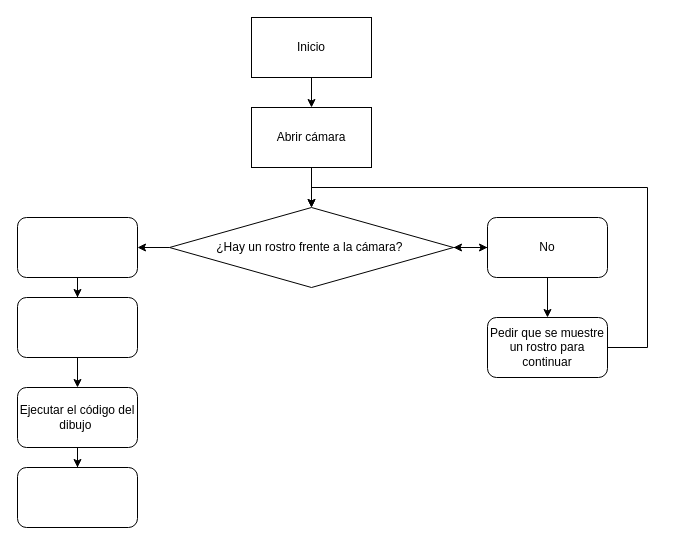
Some shapes in this 673 by 545 pixel diagram are drawn without their labels. Here are the shapes that lost their labels. From the top down, the centre of each, then its label:
At (x=77, y=247): "Si".
At (x=77, y=327): "Activar sensor de movimiento".
At (x=77, y=497): "Hacer que aparezca frente a cámara".
